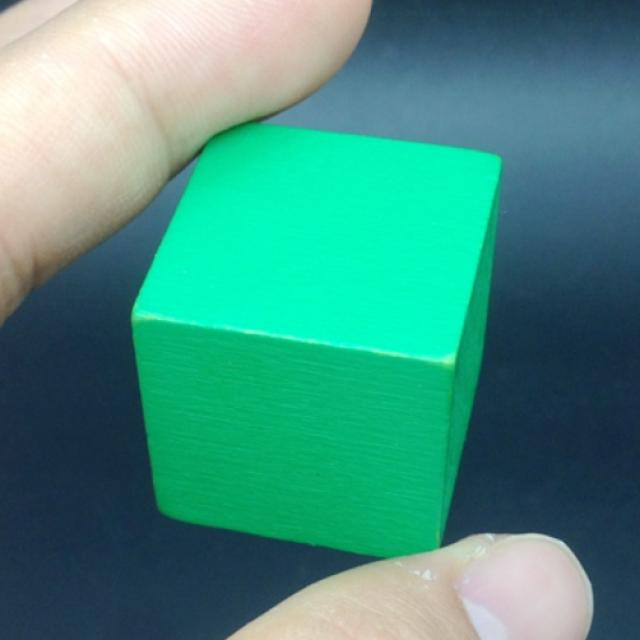green cube: (130, 124, 505, 561)
